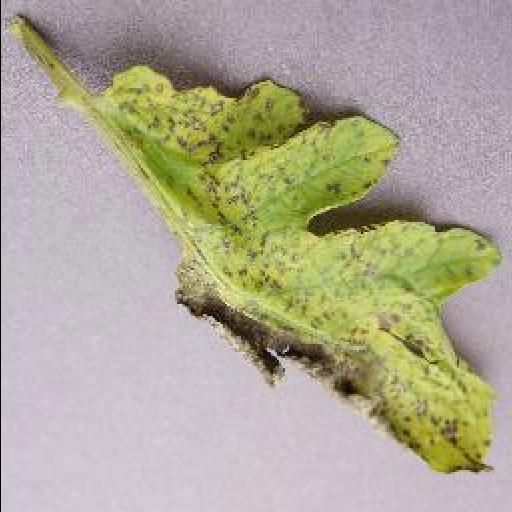disease_tomato: (99, 63, 501, 476)
